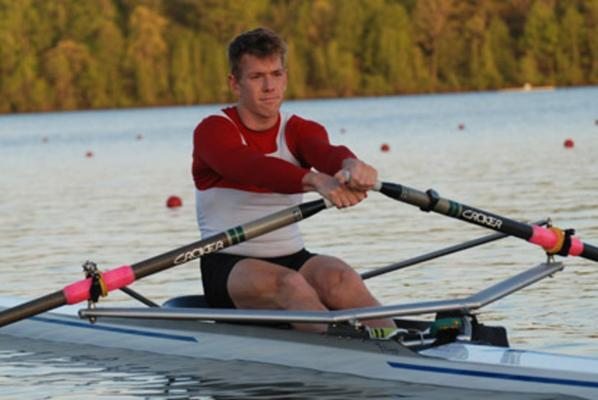person: (191, 25, 398, 338)
